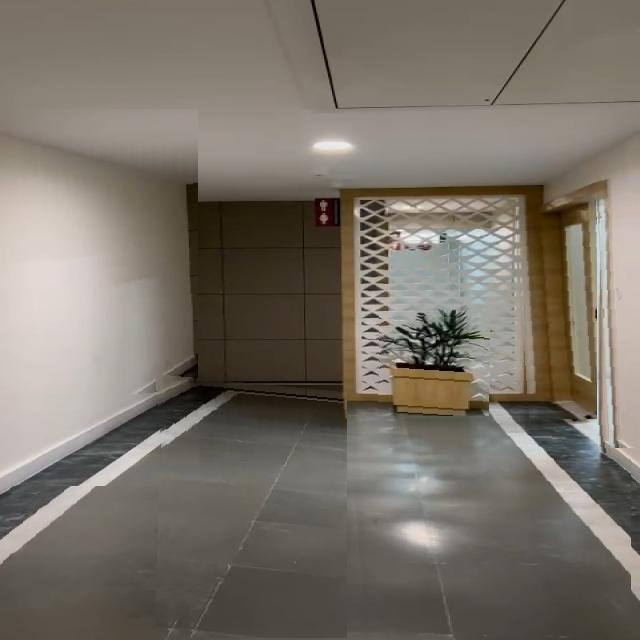door: (515, 208, 597, 424)
floor: (347, 417, 631, 640), (155, 374, 347, 638), (3, 486, 159, 640)
furniture: (371, 312, 490, 416)
wall: (0, 109, 198, 407), (594, 144, 640, 448)
